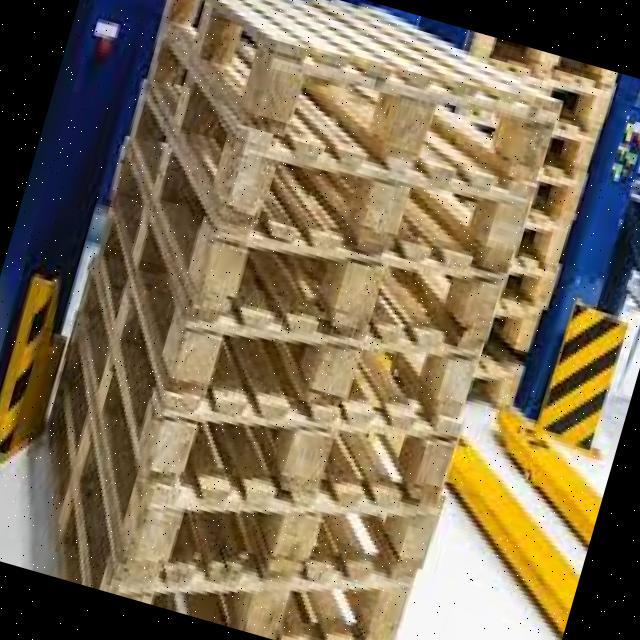Wooden-Pallets: (239, 30, 560, 191), (194, 210, 510, 352), (221, 137, 534, 273), (119, 472, 457, 597), (167, 315, 490, 438), (142, 396, 467, 505)
